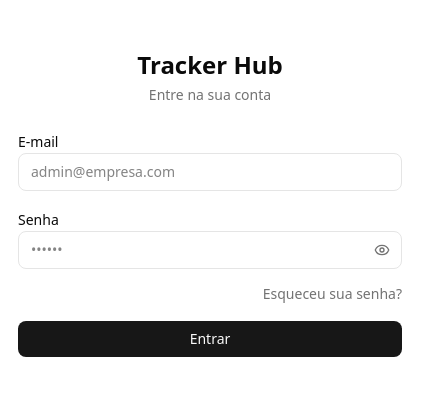
it: LoginPage › conta bloqueada (402) → mensagem específica de billing
The width and height of the screenshot is (421, 414).
Type "blocked@test.com" into the field labelled "E-mail".
click(210, 172); type("blocked@test.com")  # box [18, 153, 402, 191]
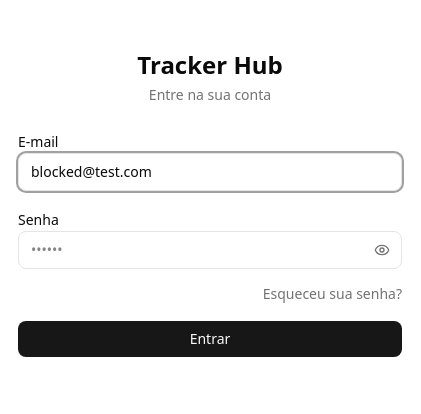
Type "Senha123" into the password field labelled "Senha".
click(210, 250); type("Senha123")  # box [18, 231, 402, 269]
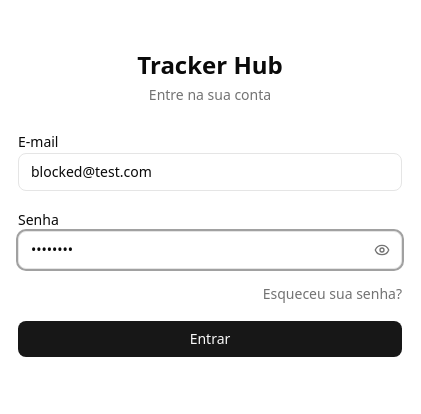
Click the button "Entrar".
click(210, 339)  # box [18, 321, 402, 357]
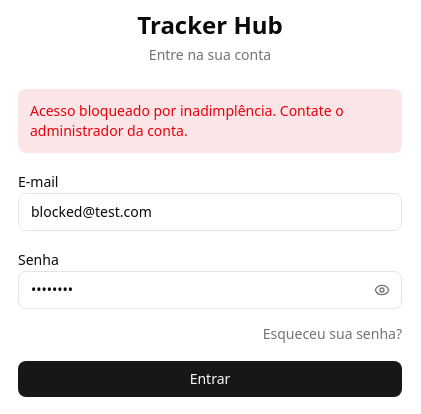
Expected: the message shows "Acesso bloqueado por inadimplência", [30, 101, 344, 140]
